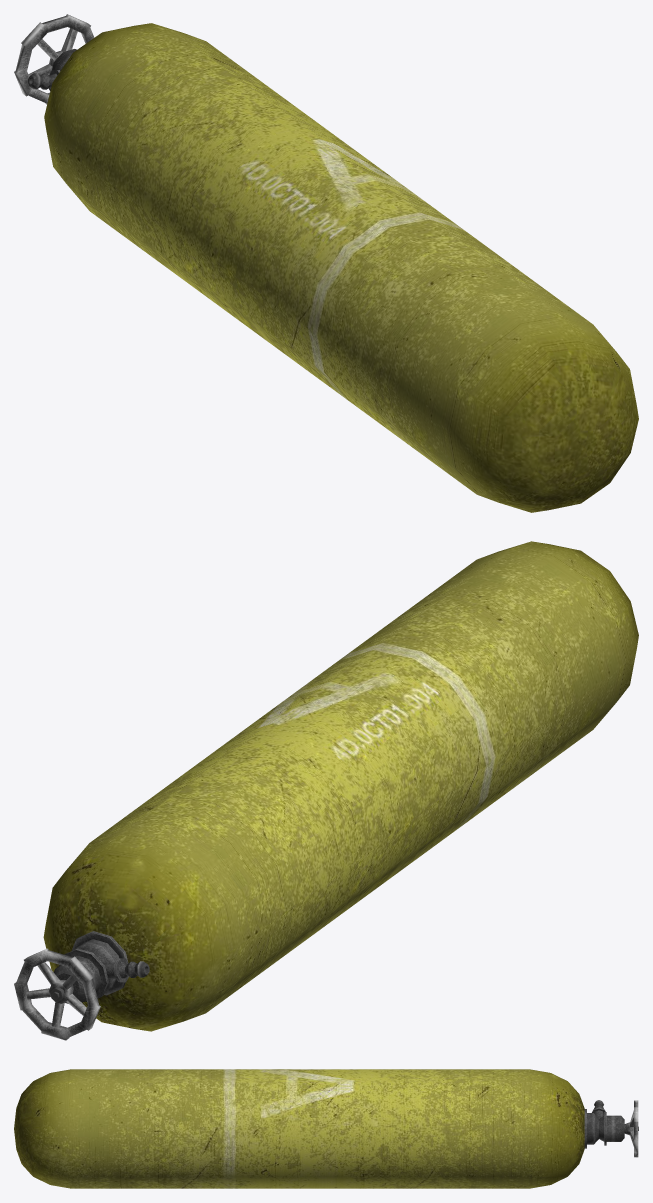
File: ballon_m.fbx
3 renders of one model, top to bottom at view 1: azimuth 30°, elevation 25°; view 2: azimuth 150°, elevation 25°; view 3: azimuth 270°, elevation 25°, orthographic. The views are drawn at different scales.
Parts seen in each view (by area): view 1: ballon, ventel1; view 2: ballon, ventel1, klapon, ventel_1, shtucer; view 3: ballon, klapon, ventel1.
Part boxes in pixels (x1=…): ballon: x1=44, y1=23, x2=638, y2=512; ventel1: x1=14, y1=14, x2=94, y2=104; ballon: x1=43, y1=541, x2=638, y2=1031; ventel1: x1=14, y1=948, x2=100, y2=1040; klapon: x1=53, y1=931, x2=128, y2=1003; ventel_1: x1=26, y1=962, x2=86, y2=1027; shtucer: x1=102, y1=958, x2=149, y2=982; ballon: x1=14, y1=1069, x2=584, y2=1188; klapon: x1=584, y1=1109, x2=624, y2=1148; ventel1: x1=634, y1=1100, x2=638, y2=1157.
Bounding box in the file's own units: 27.7 × 27.24 × 142.
